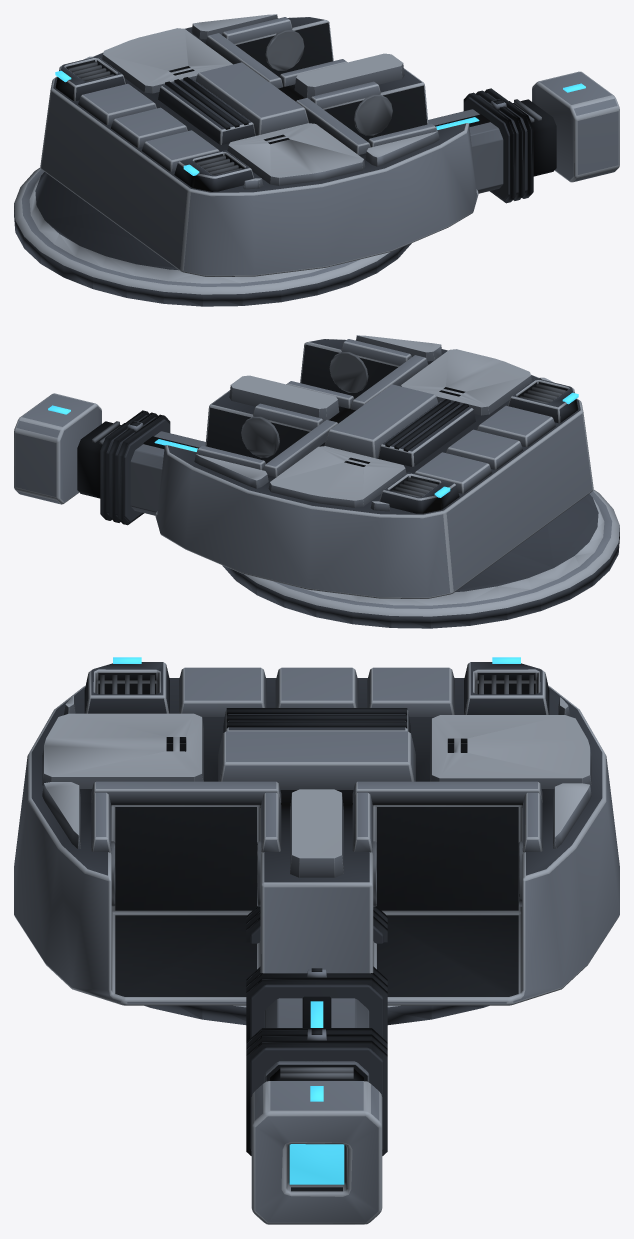
The model's file is tempest2.glb.
3 views of the same model, one above another, from view 1: azimuth 30°, elevation 25°; view 2: azimuth 150°, elevation 25°; view 3: azimuth 270°, elevation 25° (orthographic). The views are drawn at different scales.
Parts seen in each view (by area): view 1: housing, ring, barrel; view 2: housing, ring, barrel; view 3: housing, barrel, ring.
Part boxes in pixels (bbox=[...]): housing: bbox=[40, 14, 478, 276]; ring: bbox=[14, 167, 411, 306]; barrel: bbox=[428, 71, 619, 203]; housing: bbox=[155, 335, 593, 598]; ring: bbox=[222, 489, 619, 628]; barrel: bbox=[14, 393, 205, 525]; housing: bbox=[14, 657, 619, 1005]; barrel: bbox=[246, 906, 387, 1224]; ring: bbox=[144, 1005, 489, 1024].
Size of the model in its own units: 36.46 by 9.82 by 23.17.
